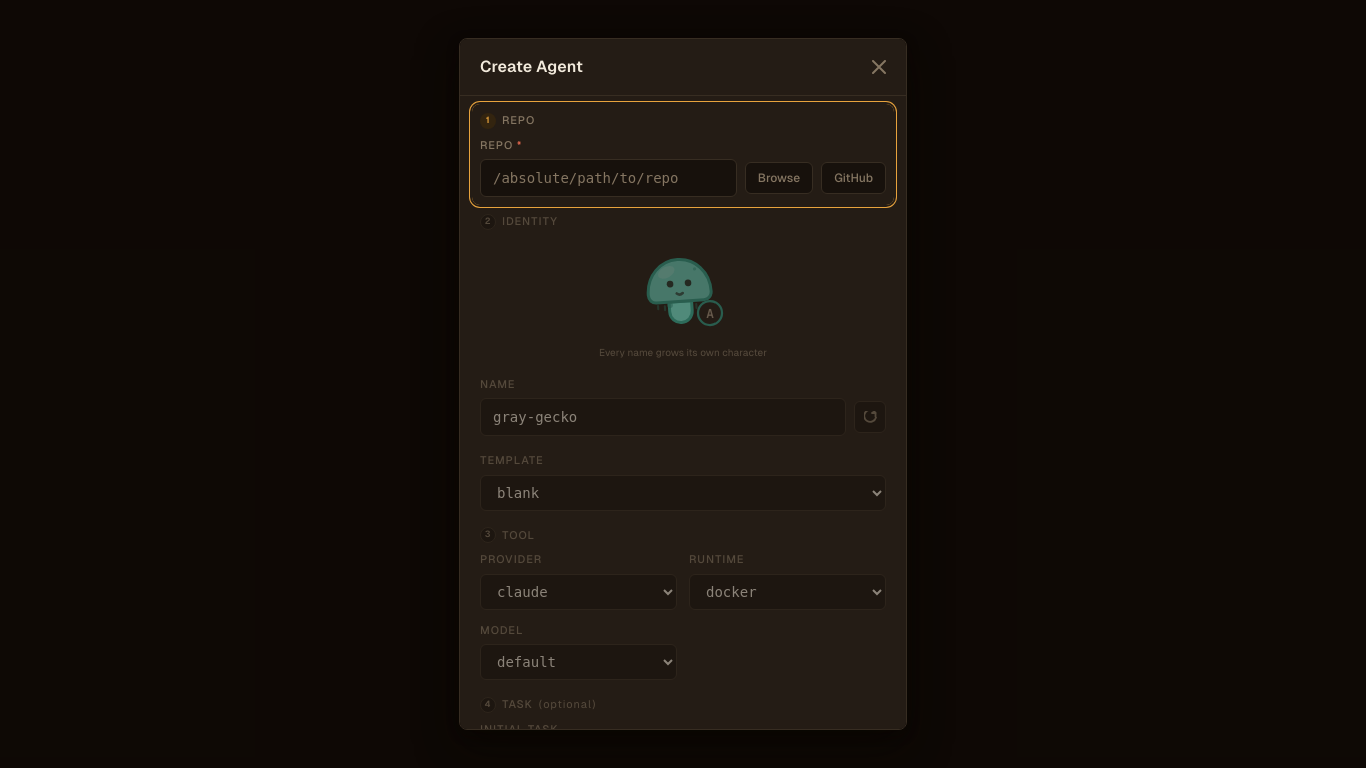
Test case: CreateAgentModal GitHub discover › reuses an existing GitHub token and lists repos without a connect form
Click the button "GitHub".
click(854, 178)  # box [821,162,886,194]
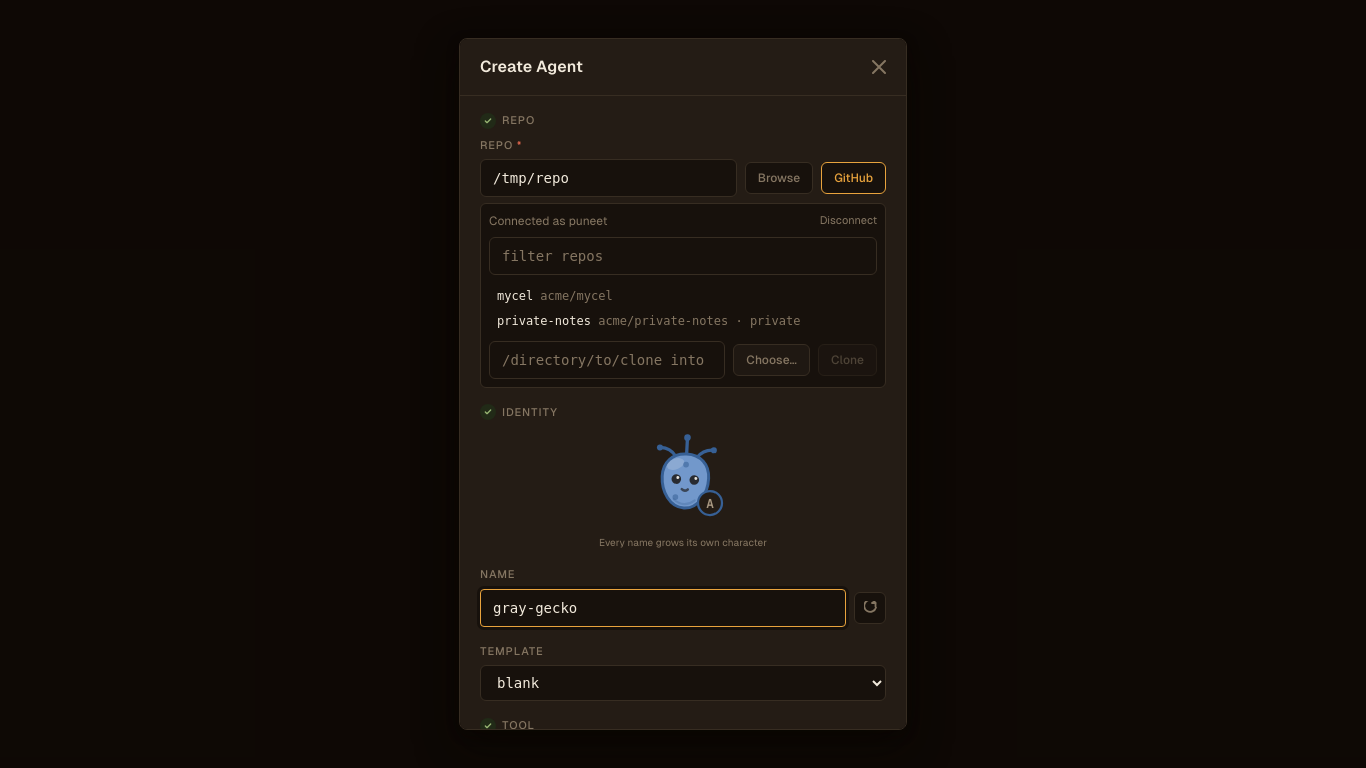
Check: the element with test id "create-agent-github-panel" is shown, box [480,203,886,388]
Check: the text "Connected as puneet" is shown, box [489,213,608,229]
Check: the text "acme/mycel" is shown, box [540,289,613,303]
